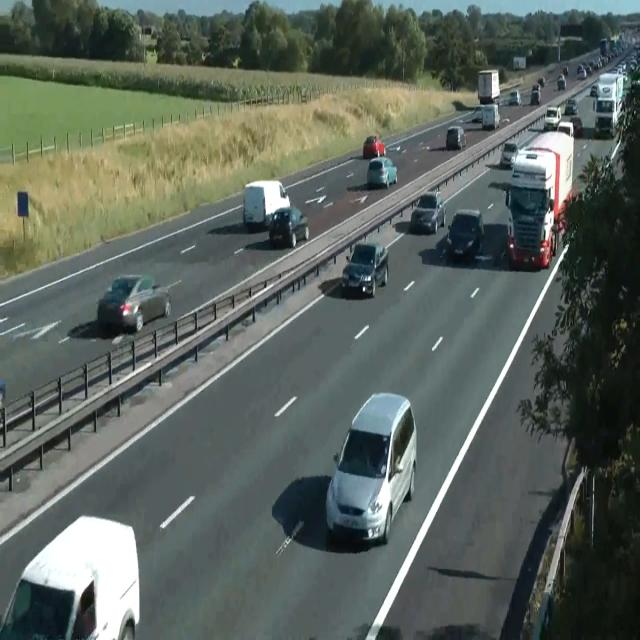bus: (96, 273, 171, 333), (268, 206, 309, 248), (367, 156, 398, 188), (362, 134, 386, 158), (500, 141, 518, 168), (446, 126, 466, 150), (544, 105, 561, 130), (460, 108, 482, 126), (570, 115, 582, 137), (564, 98, 578, 116), (507, 89, 521, 106), (530, 83, 540, 105), (556, 74, 566, 90), (472, 108, 482, 121), (590, 81, 598, 97), (536, 77, 544, 87), (562, 65, 568, 75)
jeep: (0, 513, 140, 638), (325, 390, 417, 545), (342, 240, 388, 298), (446, 207, 484, 261), (410, 189, 446, 234)
minibus: (504, 123, 574, 270), (242, 180, 290, 230), (592, 72, 626, 137), (477, 69, 500, 105), (480, 103, 500, 130), (513, 56, 526, 69), (599, 37, 607, 57)
